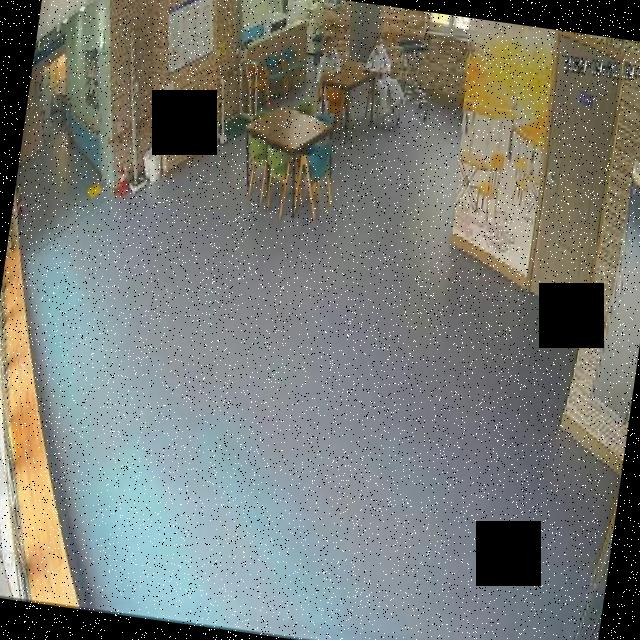patient: (358, 37, 412, 129), (314, 33, 346, 87)
sit: (358, 38, 412, 128)
